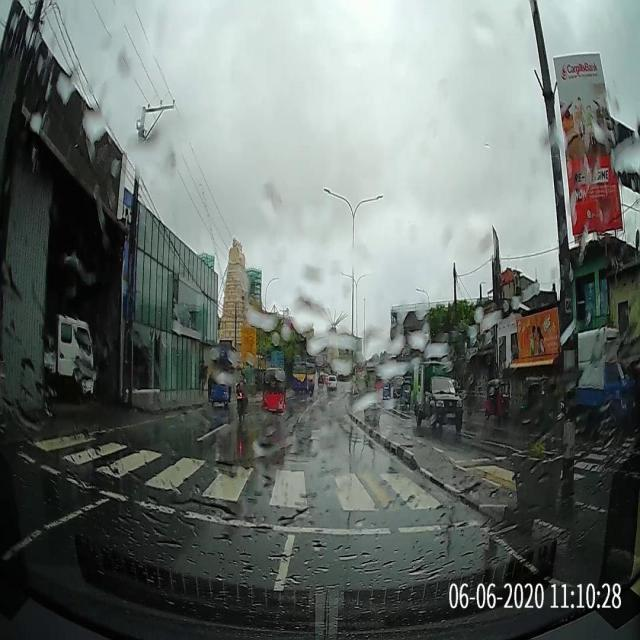Liniya 1: (480, 527, 540, 575), (44, 497, 111, 531), (2, 530, 44, 562), (274, 535, 296, 592), (196, 423, 229, 442), (543, 575, 576, 588)
Perehod: (27, 430, 442, 512)
